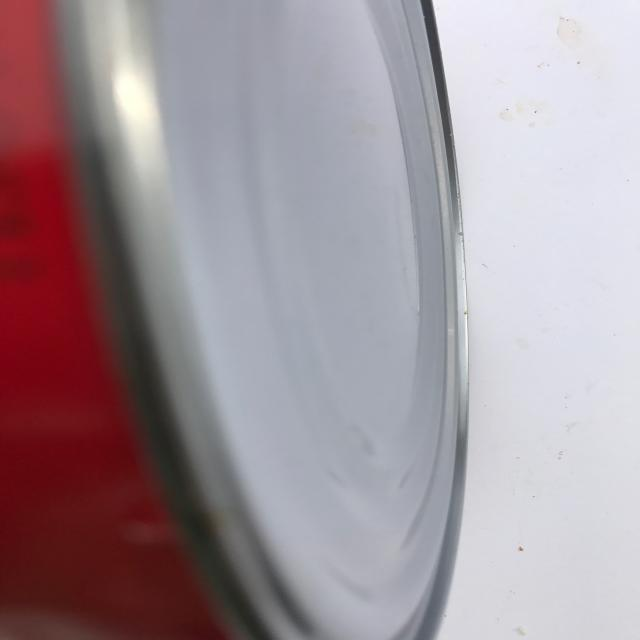metal: (2, 0, 473, 640)
